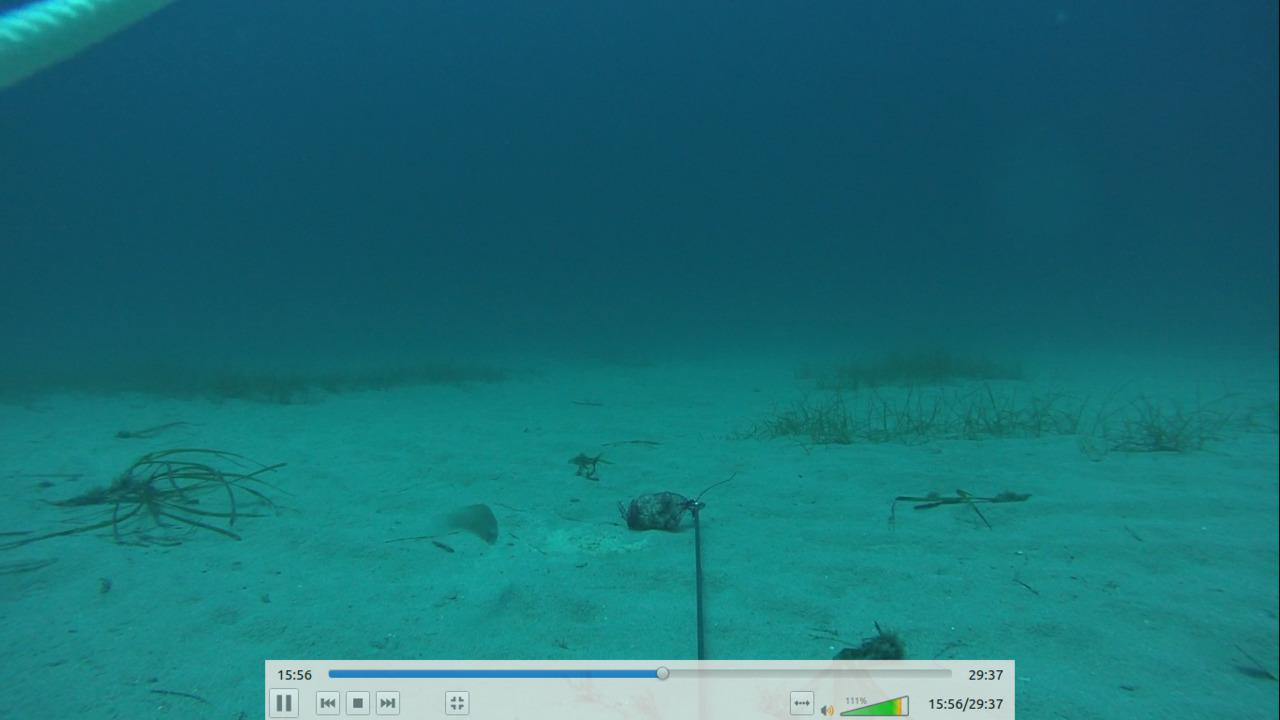raor: (430, 497, 506, 547)
